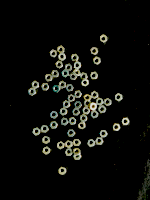nut: (42, 146, 51, 155), (87, 139, 96, 148), (89, 102, 98, 111), (67, 94, 76, 103), (59, 167, 67, 176), (73, 148, 81, 157), (57, 141, 65, 150), (72, 139, 81, 147), (95, 138, 104, 146), (42, 136, 50, 145), (32, 128, 41, 136), (67, 130, 76, 138), (112, 124, 121, 132), (50, 121, 58, 130), (69, 117, 77, 126), (80, 114, 88, 123), (72, 108, 81, 116), (82, 107, 91, 115), (91, 110, 99, 119), (98, 106, 107, 114), (63, 100, 71, 109), (74, 101, 83, 109), (104, 98, 112, 107), (115, 93, 123, 102), (84, 94, 92, 103), (91, 91, 99, 100), (52, 85, 61, 93), (41, 83, 50, 91), (31, 81, 40, 89), (44, 74, 53, 82), (51, 70, 60, 78), (90, 72, 99, 80), (65, 149, 73, 157), (65, 141, 73, 149), (100, 130, 108, 138), (122, 118, 130, 126), (41, 125, 49, 133), (78, 122, 86, 130), (61, 118, 69, 126), (50, 111, 58, 119), (60, 108, 68, 116), (96, 98, 104, 106), (74, 91, 82, 99), (66, 84, 74, 92), (28, 88, 36, 96), (81, 79, 89, 87), (70, 73, 78, 81), (73, 69, 81, 77), (55, 61, 63, 69), (71, 54, 79, 62), (93, 57, 101, 65), (58, 53, 66, 61), (50, 50, 58, 58), (57, 46, 65, 54), (91, 47, 99, 55), (100, 35, 108, 43), (62, 69, 69, 78), (74, 61, 81, 70), (59, 81, 66, 89), (80, 73, 88, 80), (65, 64, 73, 71), (73, 155, 82, 161), (84, 101, 92, 107)
